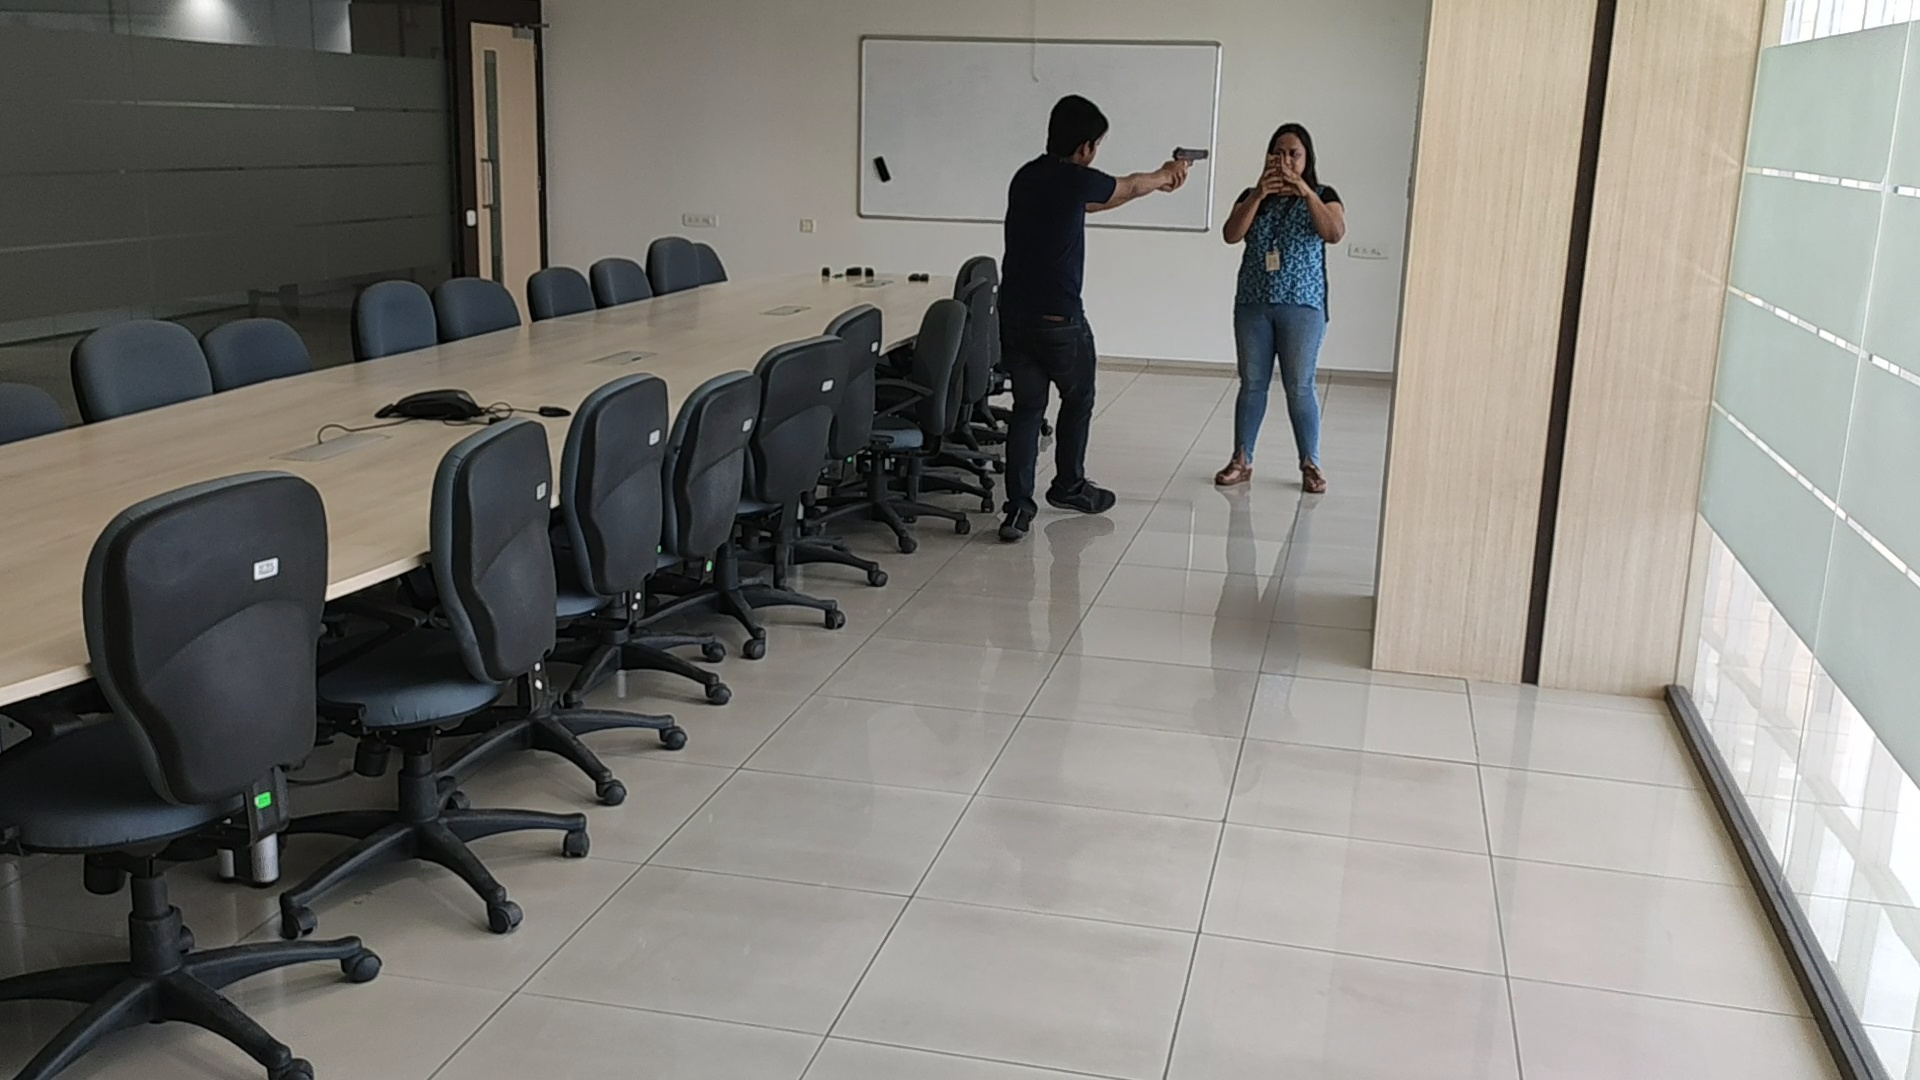gun: (1170, 142, 1208, 167)
